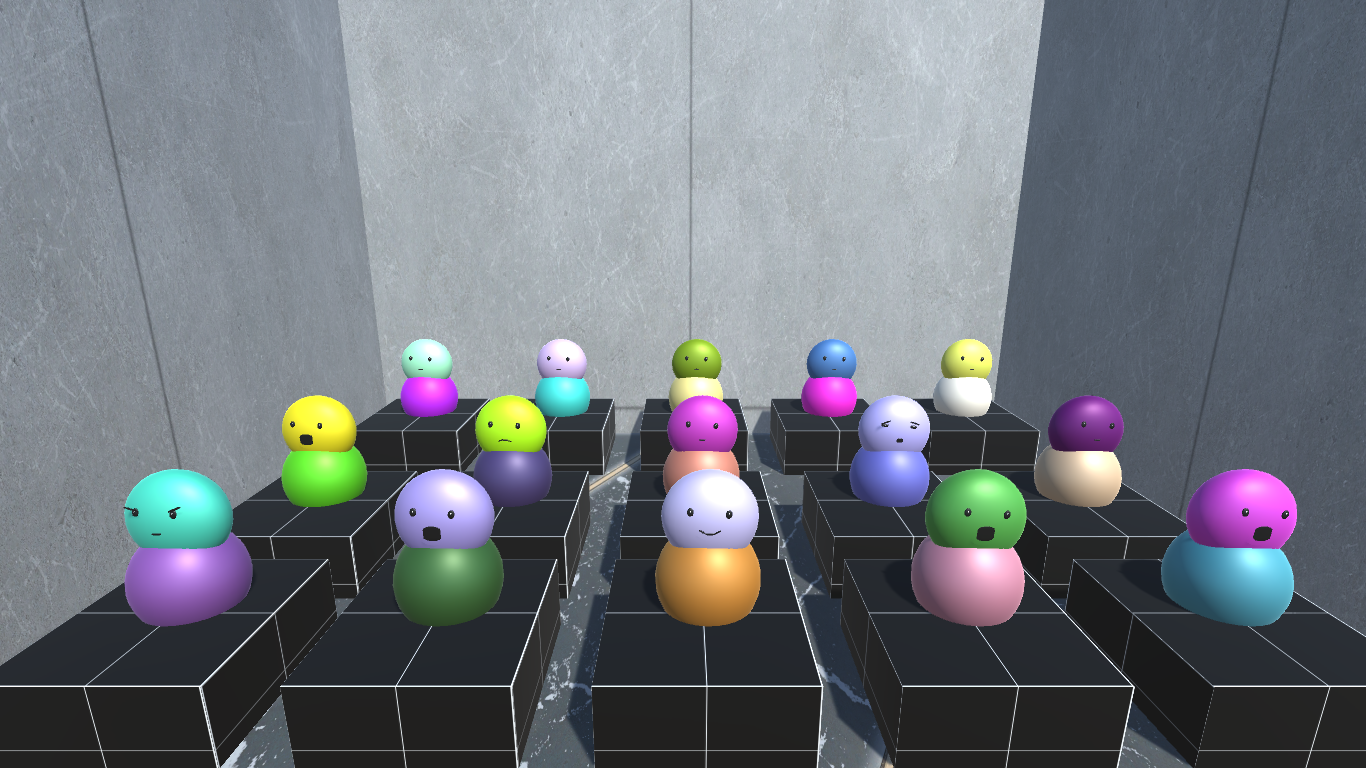blob_entediado: (851, 392, 938, 525)
blob_feliz: (648, 474, 773, 630)
blob_normal: (1028, 393, 1125, 511), (661, 396, 757, 502), (797, 338, 866, 425), (525, 336, 594, 422), (932, 334, 989, 429), (659, 336, 725, 416), (398, 339, 459, 411)
blob_raiva: (113, 467, 264, 631)
blob_surpreso: (1166, 471, 1309, 632), (912, 463, 1030, 639), (381, 468, 509, 627), (281, 393, 369, 507)
blob_triste: (468, 395, 551, 511)
